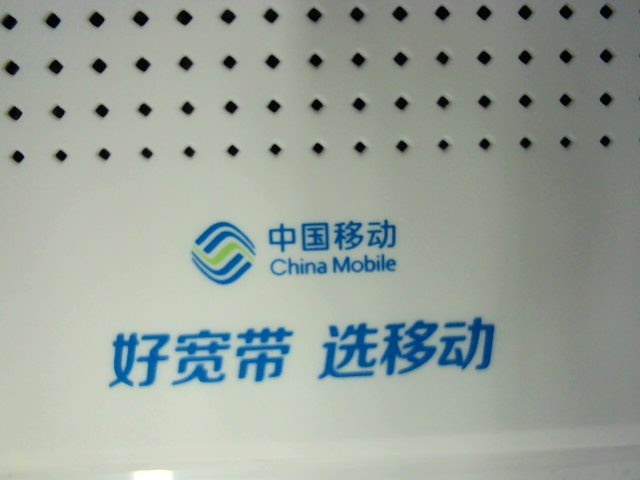AA_ChinaMoble: (101, 210, 504, 387)
